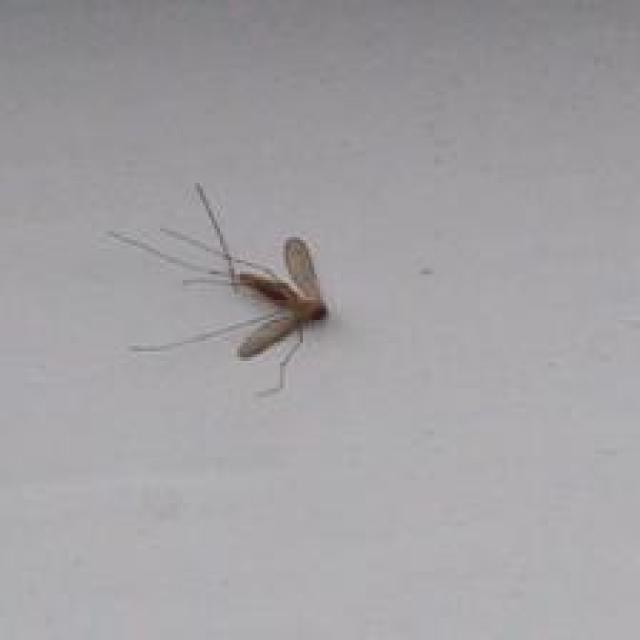Culex: (107, 180, 330, 394)
